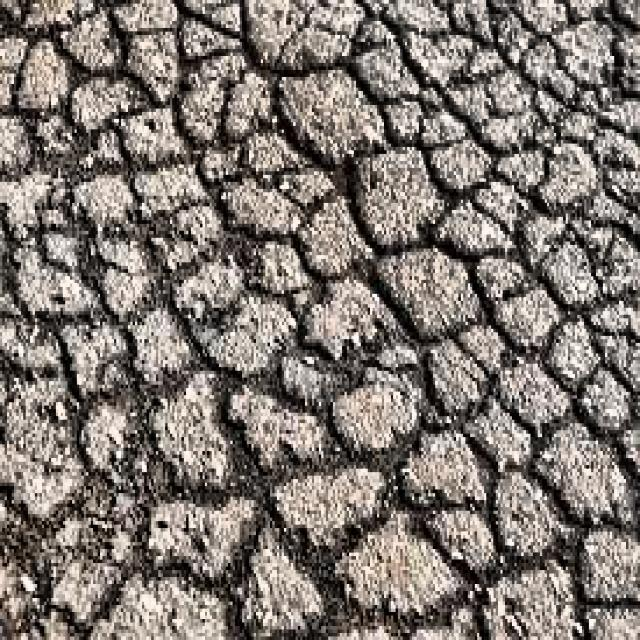alligator_cracks: (125, 129, 528, 573)
